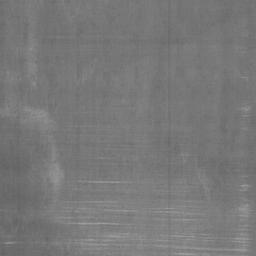Waist folding: (0, 173, 256, 256), (172, 43, 256, 54), (0, 105, 48, 119), (238, 105, 256, 132), (45, 129, 82, 136), (91, 141, 137, 146), (241, 75, 256, 82), (113, 160, 136, 163)
